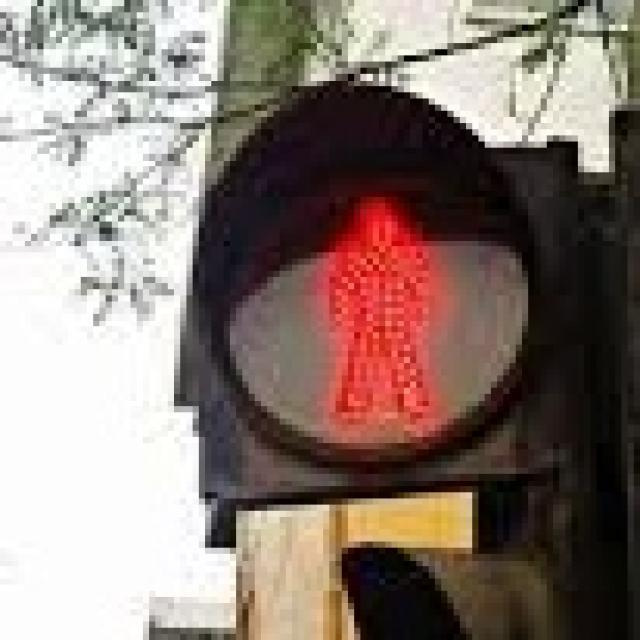red-crossing: (276, 166, 469, 431)
